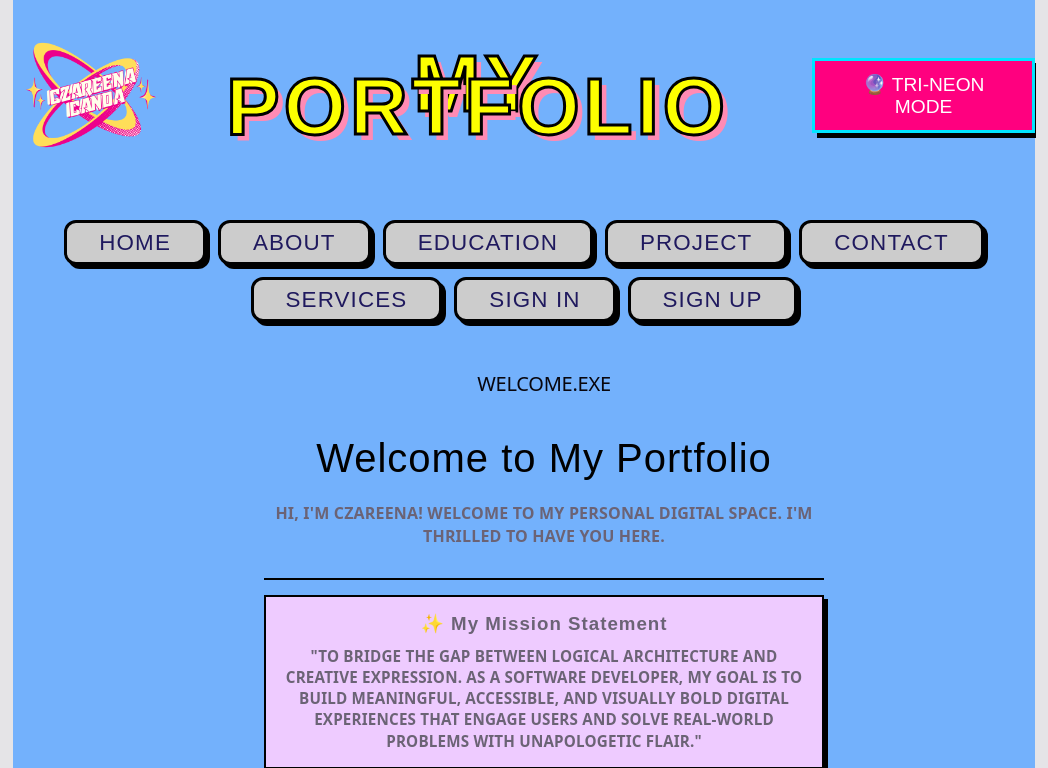
it: Portfolio App E2E (AI-assisted Cypress) › navigates to About and Contact pages
Click the link "ABOUT" at (295, 243), box [218,220,371,265]
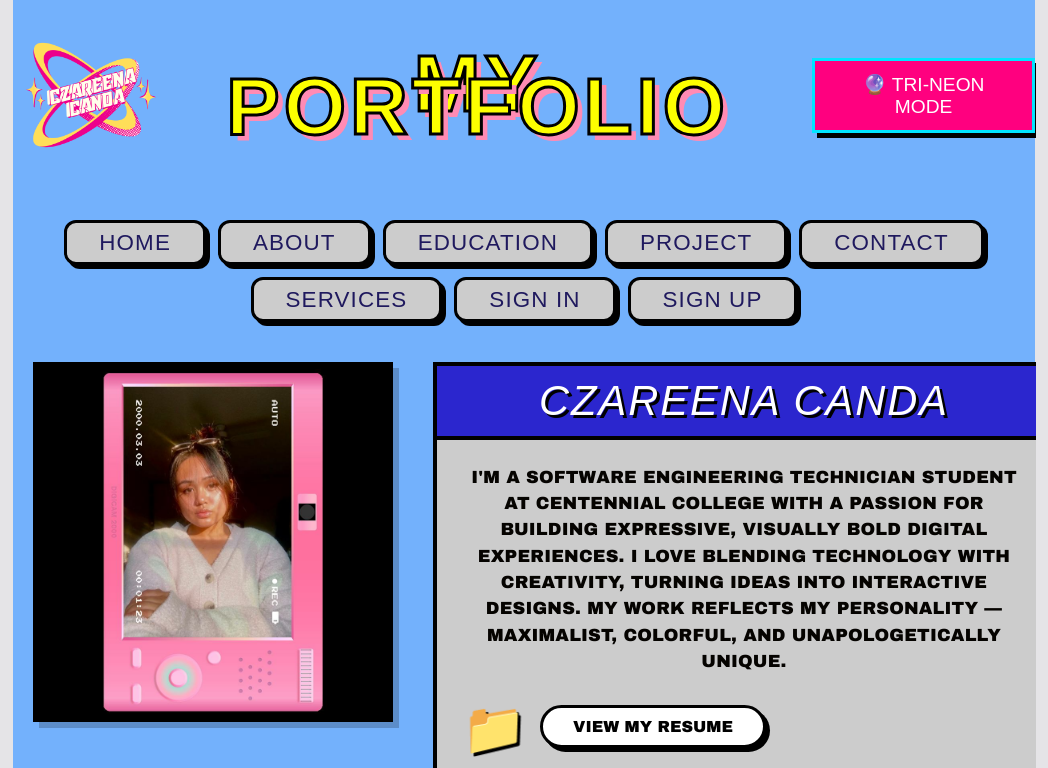
Click the link "CONTACT" at (891, 243), box [799,220,983,265]
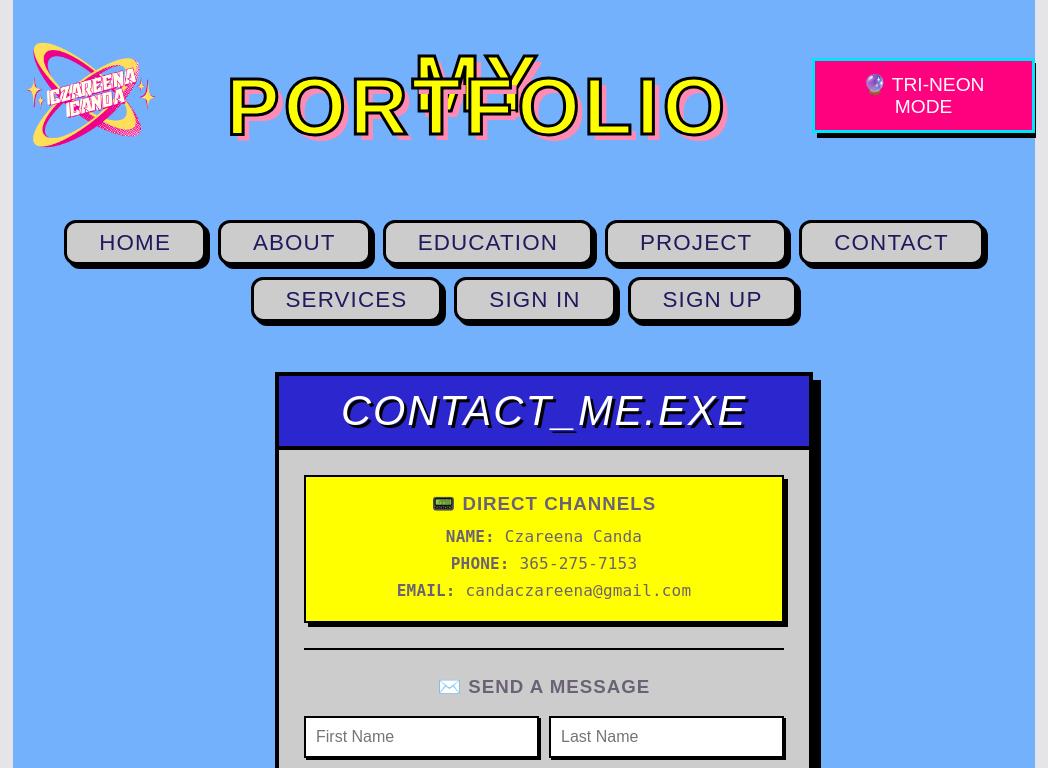
Check: the heading "CONTACT_ME.EXE" is shown, box [341,387,747,434]
